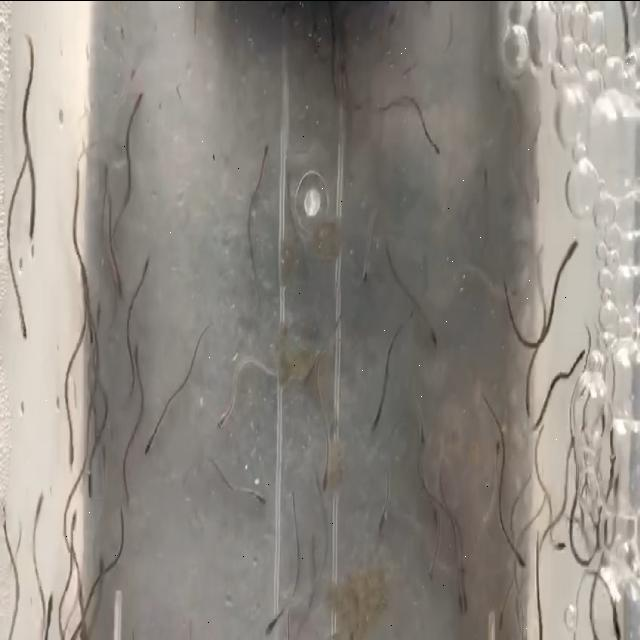active_glass_eel: (246, 118, 270, 168), (322, 322, 348, 364), (366, 398, 394, 436), (309, 406, 330, 455), (229, 475, 252, 517), (136, 254, 156, 299), (260, 599, 280, 640), (442, 550, 459, 598), (426, 530, 442, 578), (557, 352, 576, 392), (30, 488, 48, 530), (606, 606, 628, 640), (288, 604, 308, 640), (419, 130, 443, 160), (495, 78, 512, 120), (213, 404, 230, 445), (44, 584, 58, 632), (327, 15, 342, 57), (424, 321, 446, 349), (566, 224, 582, 262), (1, 504, 15, 546), (134, 336, 148, 376), (132, 76, 148, 110), (479, 208, 494, 244), (516, 572, 527, 621), (464, 532, 478, 570), (110, 268, 126, 300), (454, 490, 470, 522), (68, 514, 86, 542), (496, 586, 510, 622), (386, 469, 398, 509), (85, 474, 101, 503), (140, 433, 154, 465), (515, 537, 527, 571), (552, 526, 566, 554), (84, 319, 100, 342), (66, 438, 78, 468), (458, 592, 470, 622), (20, 314, 30, 348), (494, 432, 504, 466), (26, 216, 36, 248), (95, 558, 107, 580), (363, 268, 373, 292)
